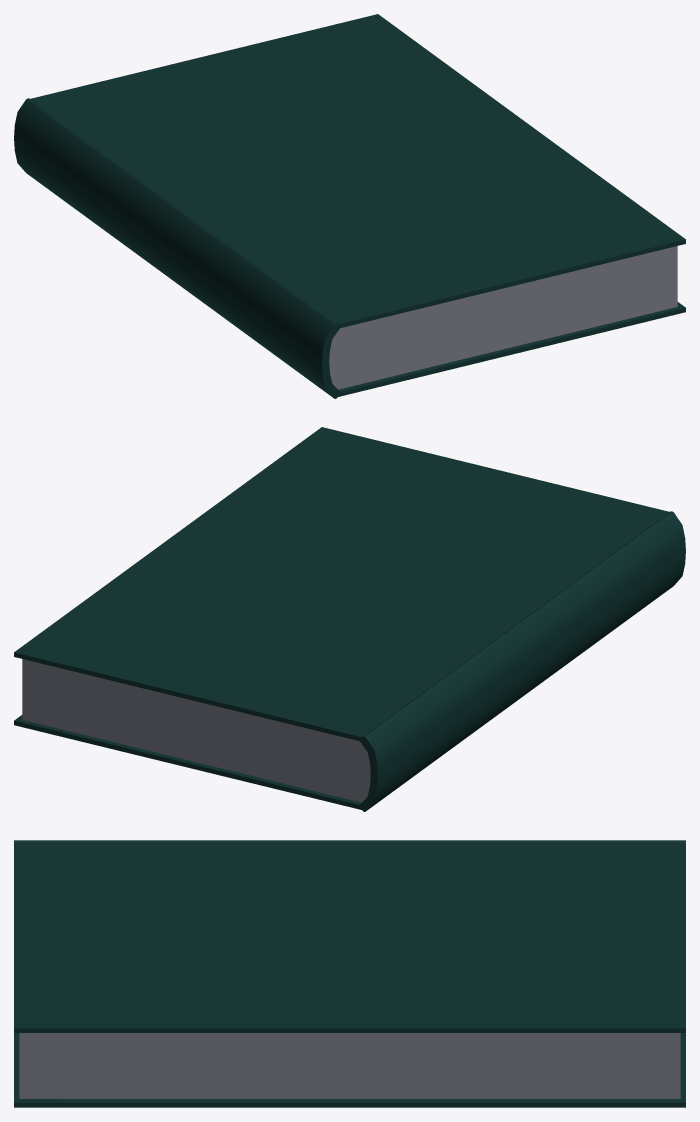
File: Libro.fbx
The picture shows the model from 3 angles, top to bottom: view 1: azimuth 30°, elevation 25°; view 2: azimuth 150°, elevation 25°; view 3: azimuth 270°, elevation 25°; orthographic projection. The views are drawn at different scales.
Visible parts, largest first — view 1: Libro; view 2: Libro; view 3: Libro.
Part boxes in pixels (x1,y1,x2,y2): Libro: [14, 14, 685, 398]; Libro: [14, 427, 685, 811]; Libro: [14, 840, 685, 1107].
Size of the model in its own units: 15.7 by 3.09 by 23.
